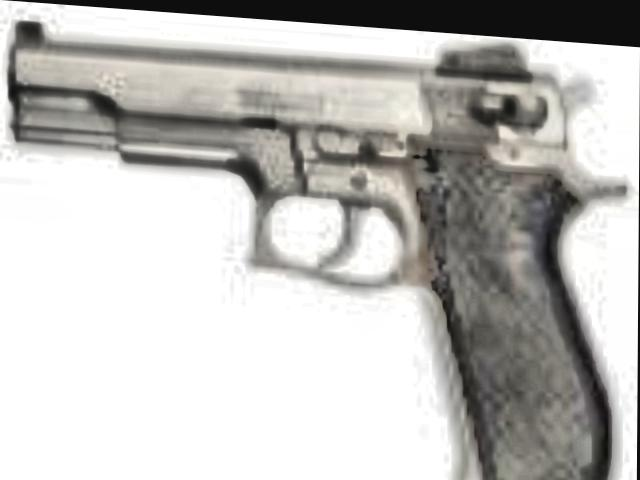pistol: (13, 9, 616, 480)
